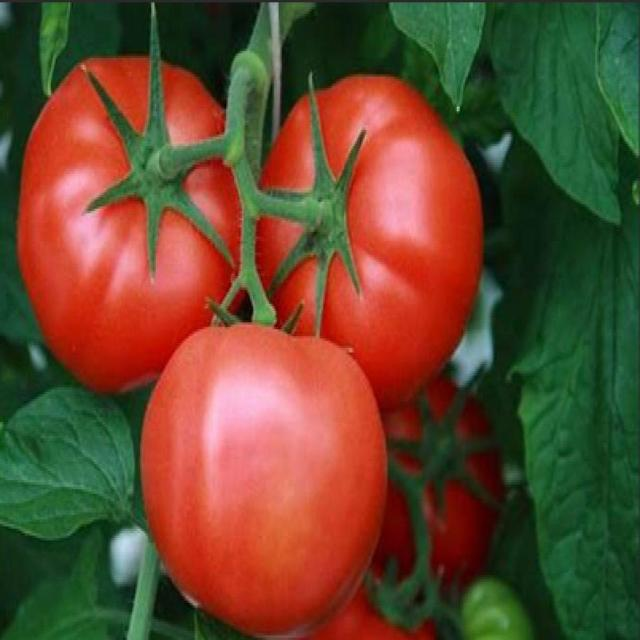Healthy Fruit: (87, 138, 293, 307)
